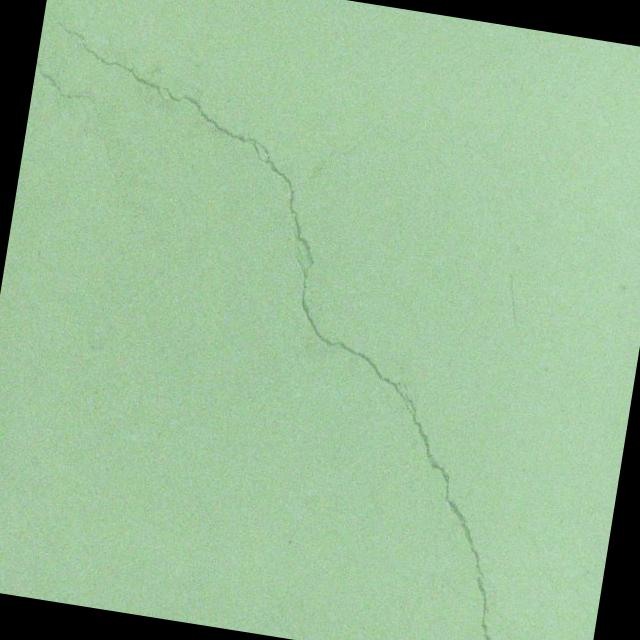crack: (0, 0, 615, 640), (321, 89, 514, 198), (16, 61, 147, 210)
